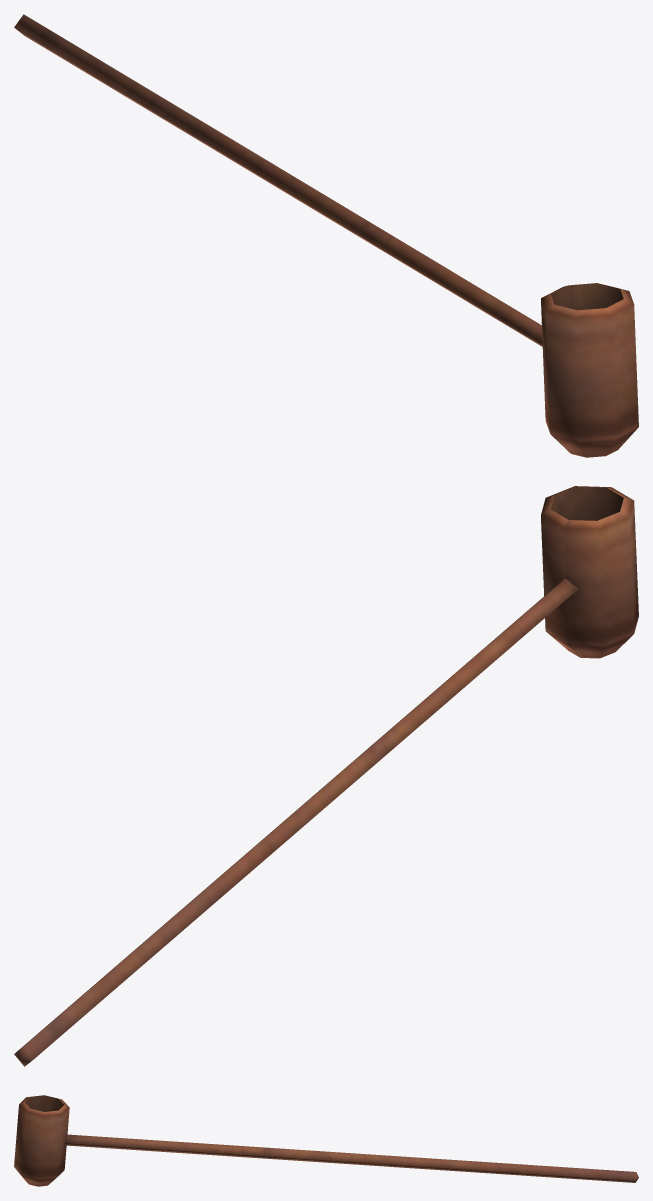
File: Tea_4.FBX
3 renders of one model, top to bottom at view 1: azimuth 30°, elevation 25°; view 2: azimuth 150°, elevation 25°; view 3: azimuth 270°, elevation 25°, orthographic. The views are drawn at different scales.
Visible parts, largest first — view 1: tea4; view 2: tea4; view 3: tea4.
Boxes of the visible parts, <box> form: tea4: <box>14,14,638,457</box>; tea4: <box>14,486,638,1066</box>; tea4: <box>14,1095,638,1186</box>.
Bounding box in the file's own units: 2.81 × 4.93 × 34.57.
